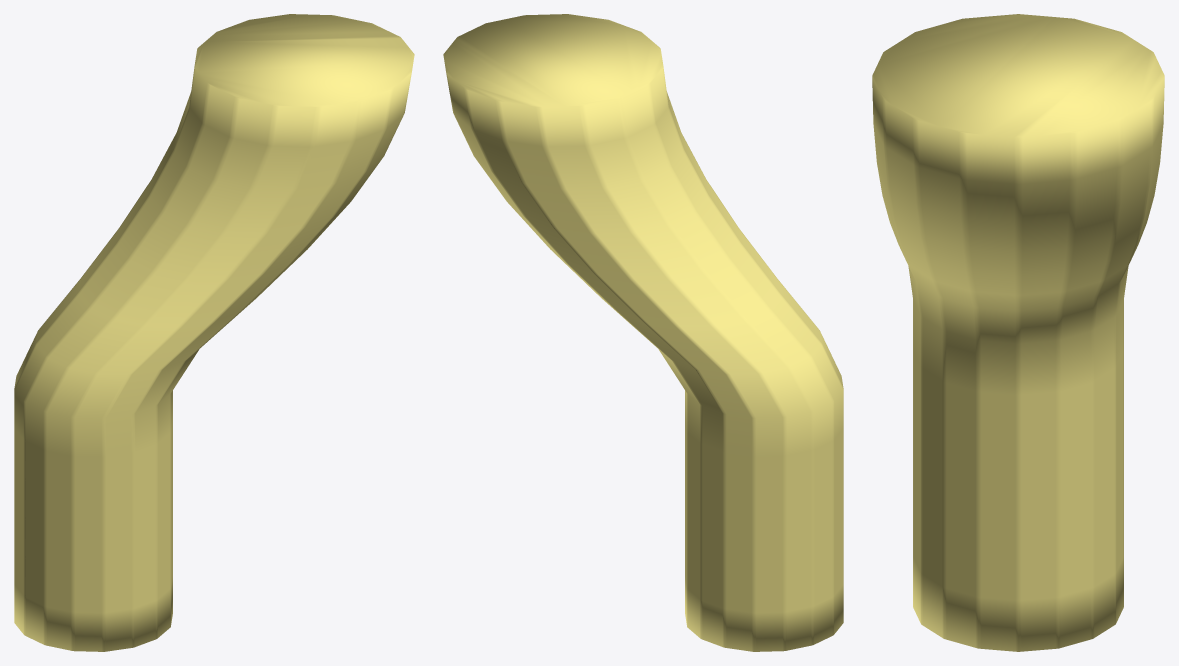
File: Banana.glb
3 views of the same model, side by side, from view 1: azimuth 30°, elevation 25°; view 2: azimuth 150°, elevation 25°; view 3: azimuth 270°, elevation 25° (orthographic). The views are drawn at different scales.
Parts seen in each view (by area): view 1: Banana; view 2: Banana; view 3: Banana.
Boxes of the visible parts, left/top/right/bottom form: Banana: left=14, top=14, right=414, bottom=651; Banana: left=443, top=14, right=843, bottom=651; Banana: left=872, top=14, right=1164, bottom=651.
Size of the model in its own units: 0.6066 by 0.78 by 0.31.
